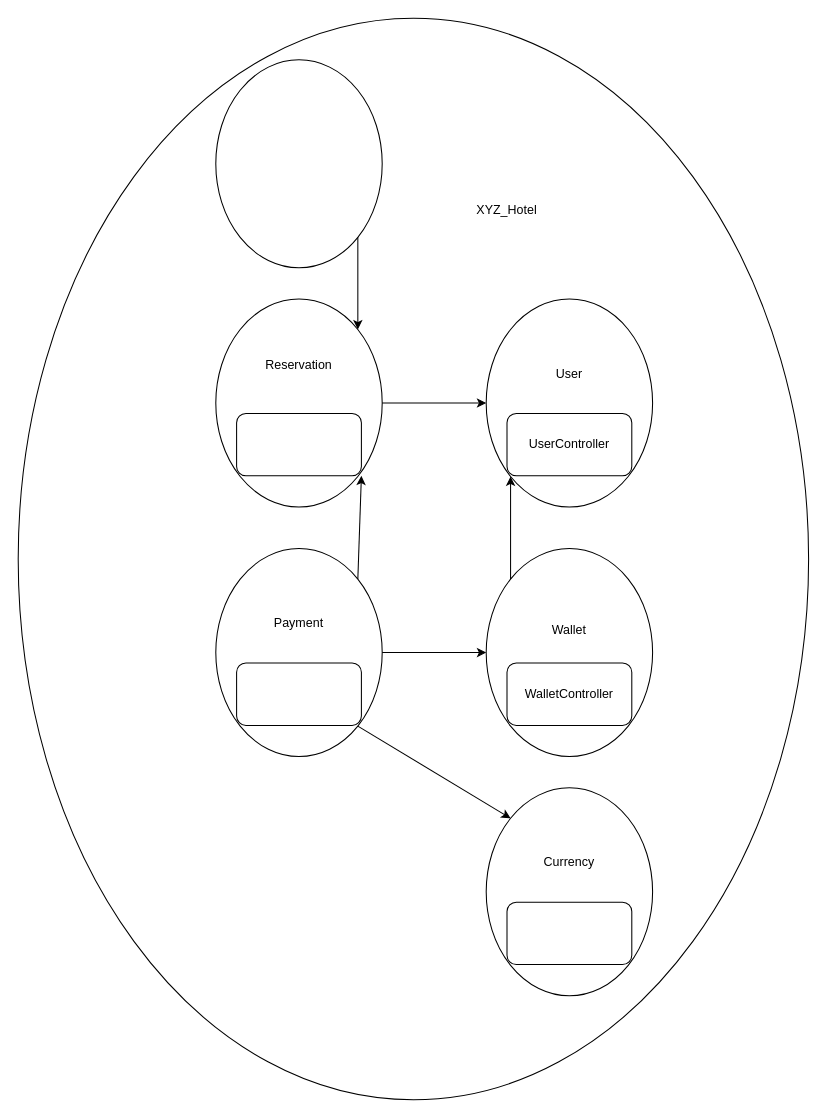
Image size: 827x1118. Some labels were removed from this diagram. The shapes that lost their labels are listed below. From the top down, each one's centre as x and y in pixels, then its label:
(298,163): Room
(298,444): ReservationController
(298,693): PaymentController
(569,933): CurrencyController
